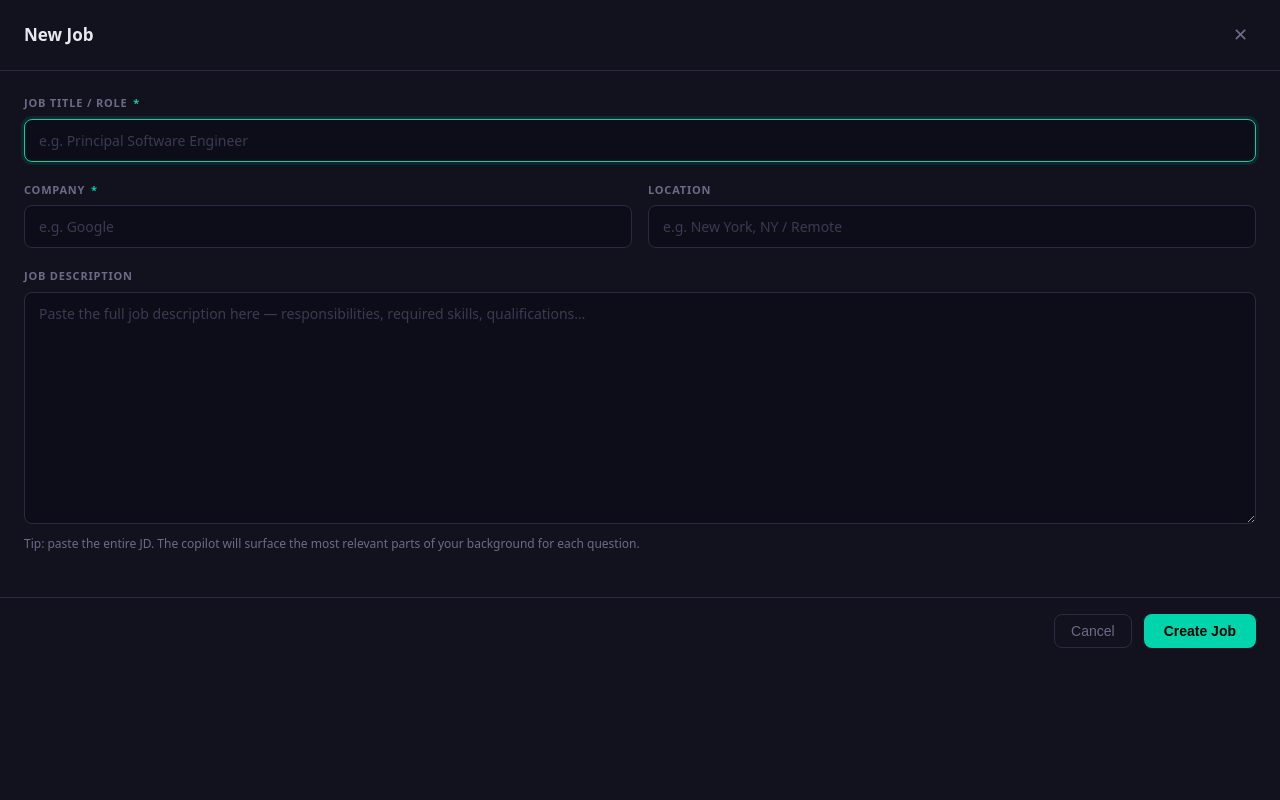
JobForm — validation › shows "Required" error when company is empty on submit
Type "SWE" into the field with placeholder "e.g. Principal Software Engineer" at (640, 140), box [24,118,1256,162]
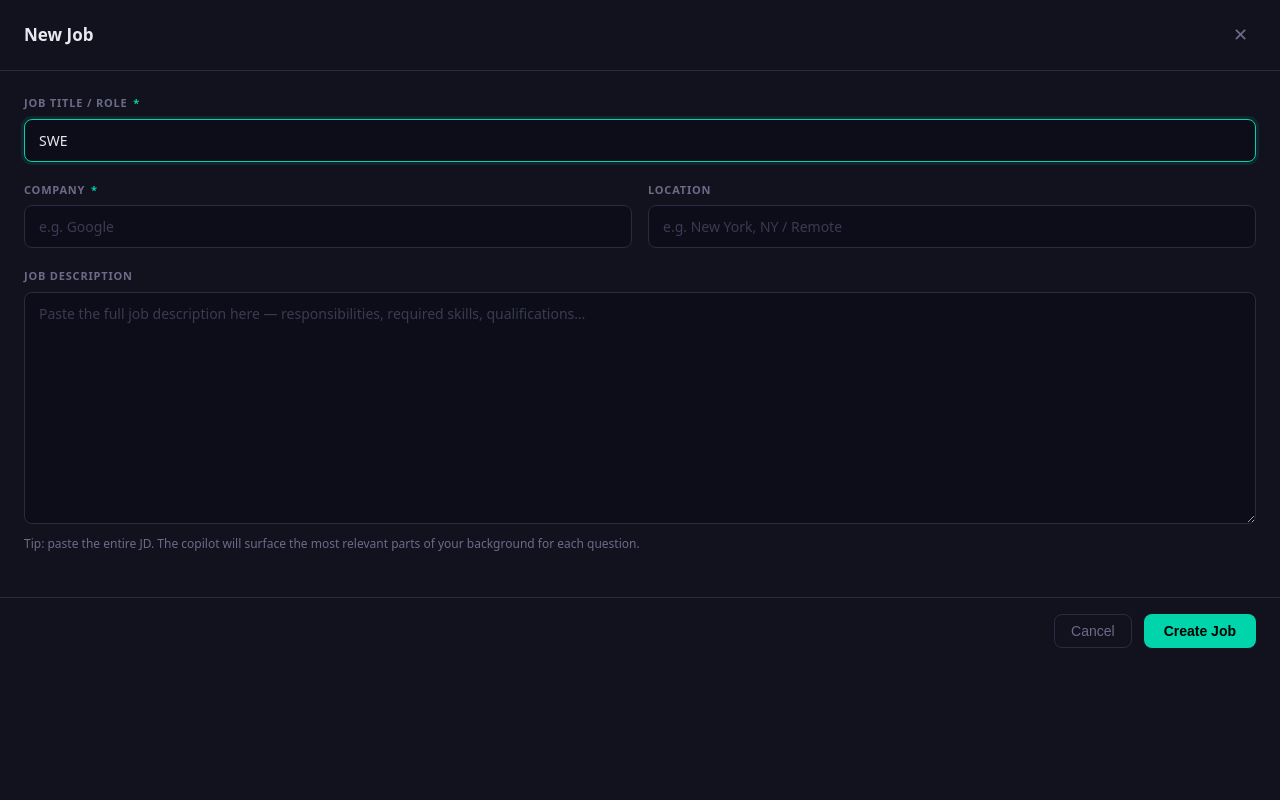
Click the button "Create Job" at (1200, 630), box [1144,614,1256,648]
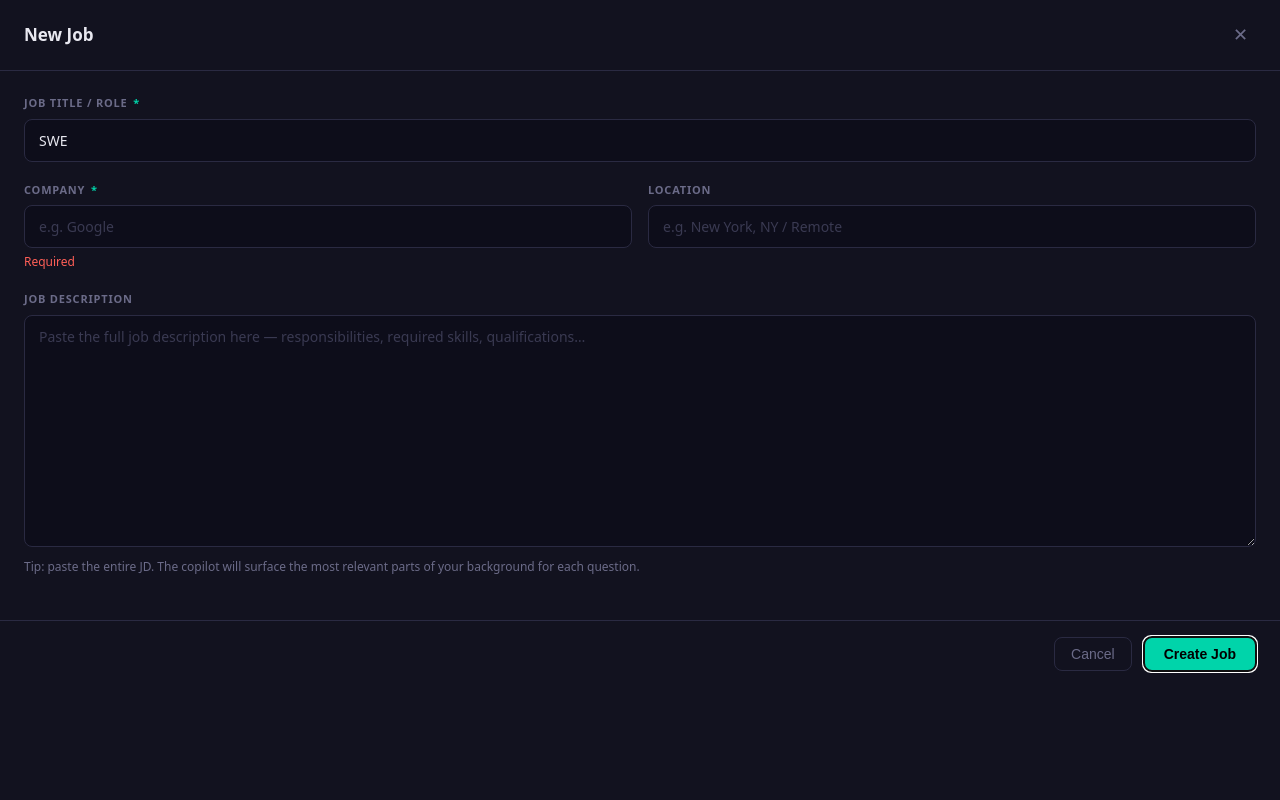
Now the text "Required" is shown, box [24,253,75,270]
